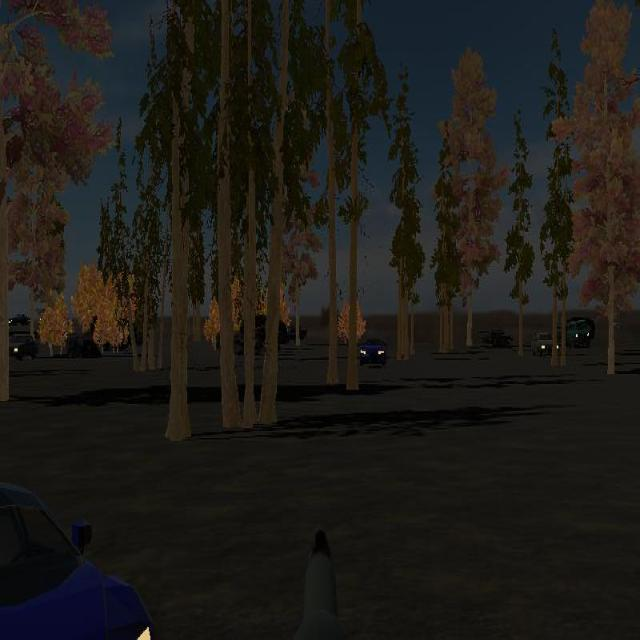car: (0, 320, 38, 360)
